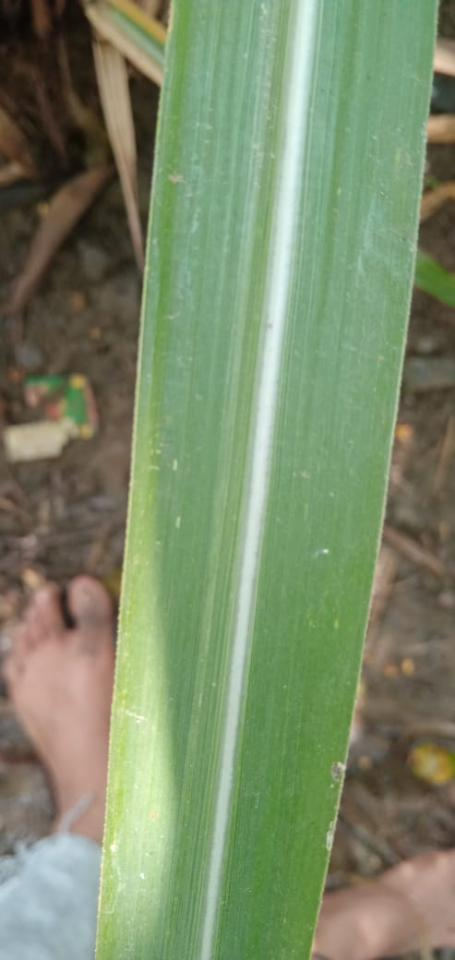Healthy: (94, 0, 439, 959)
